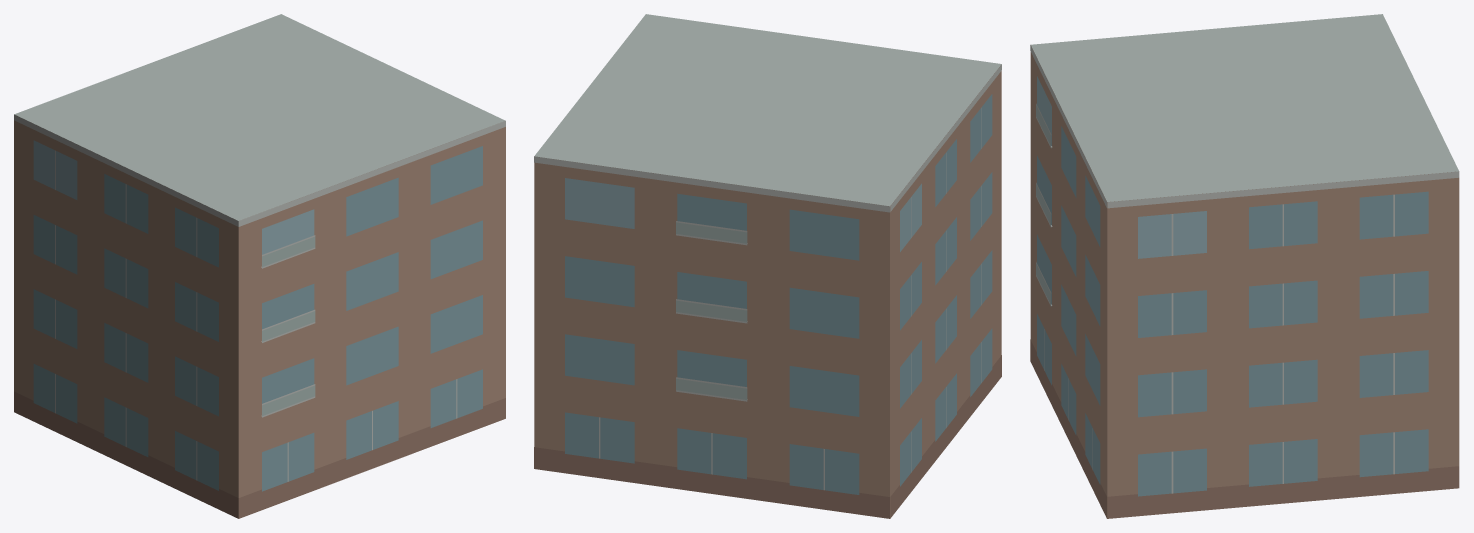
File: residential-3b5209ea-314b-40c0-930b-11751607dd6b.glb
The picture shows the model from 3 angles, left to right: view 1: azimuth 30°, elevation 25°; view 2: azimuth 150°, elevation 25°; view 3: azimuth 270°, elevation 25°; orthographic projection. The views are drawn at different scales.
Parts seen in each view (by area): view 1: residential-3b5209ea-314b-40c0-930b-11751607dd6b.tmp; view 2: residential-3b5209ea-314b-40c0-930b-11751607dd6b.tmp; view 3: residential-3b5209ea-314b-40c0-930b-11751607dd6b.tmp.
Boxes of the visible parts, bbox=[...] form: residential-3b5209ea-314b-40c0-930b-11751607dd6b.tmp: bbox=[14, 14, 505, 518]; residential-3b5209ea-314b-40c0-930b-11751607dd6b.tmp: bbox=[534, 14, 1001, 518]; residential-3b5209ea-314b-40c0-930b-11751607dd6b.tmp: bbox=[1030, 14, 1459, 518].
Size of the model in its own units: 15.54 by 12.2 by 14.97.
